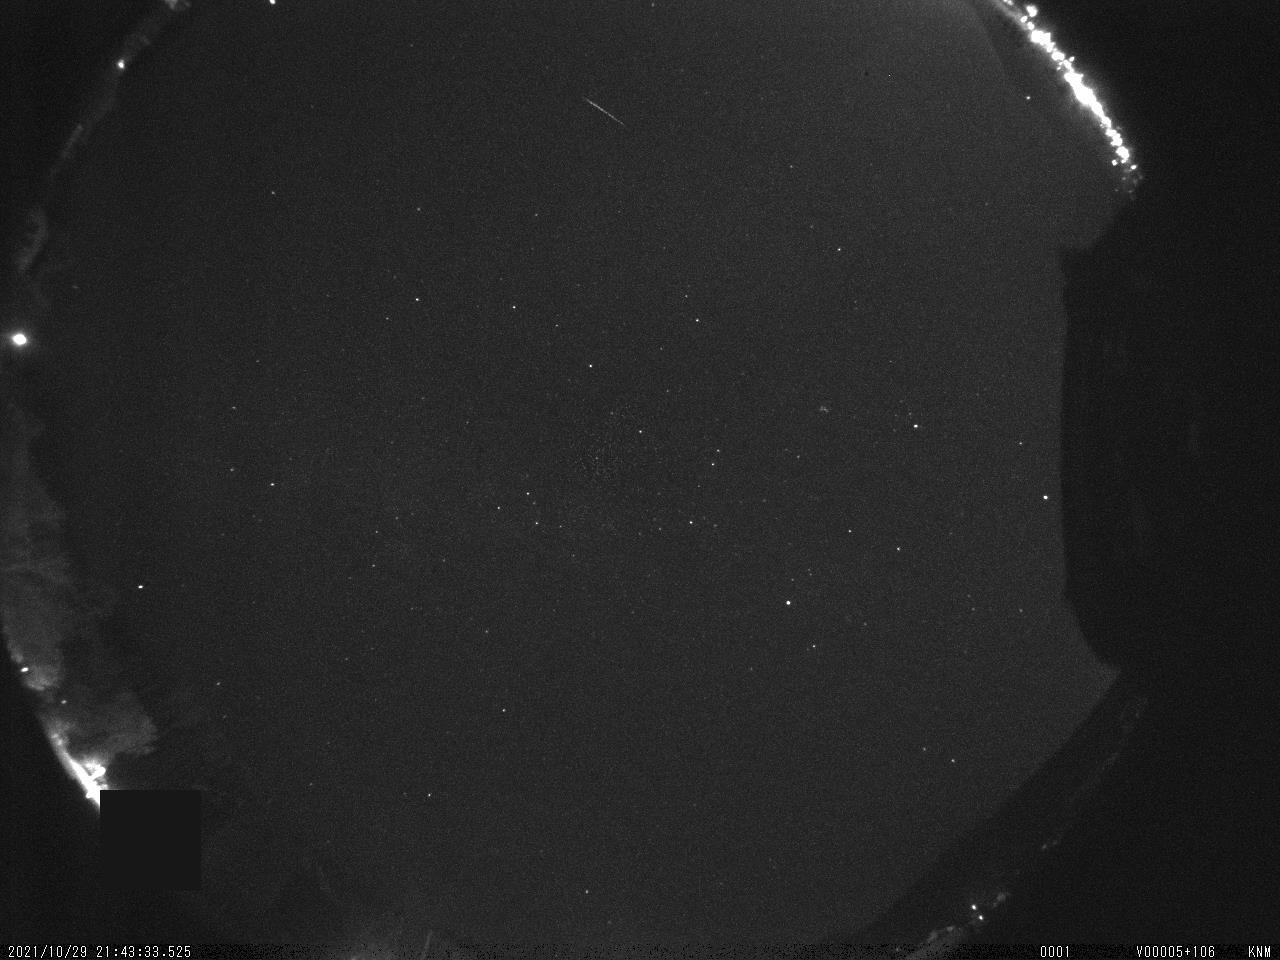meteor: (574, 85, 635, 132)
